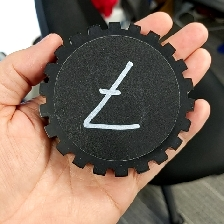gear: (37, 20, 196, 179)
